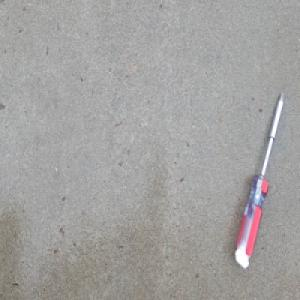Screwdriver: (232, 85, 286, 269)
